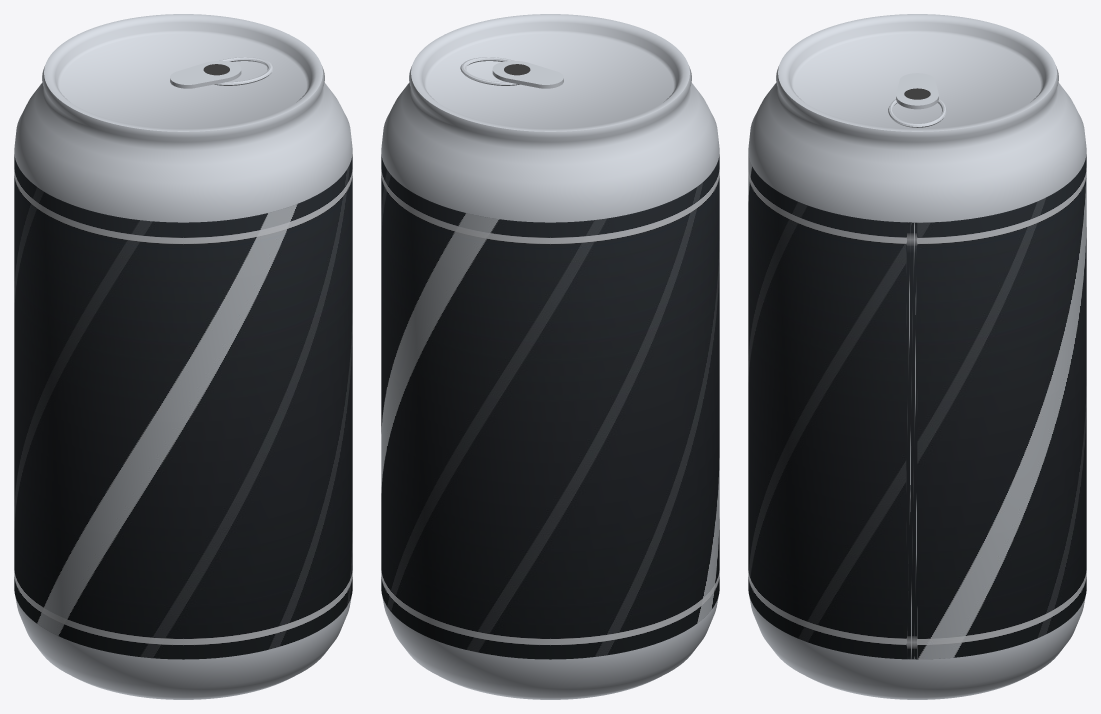
File: can.glb
3 views of the same model, side by side, from view 1: azimuth 30°, elevation 25°; view 2: azimuth 150°, elevation 25°; view 3: azimuth 270°, elevation 25° (orthographic).
Parts seen in each view (by area): view 1: can, tab; view 2: can, tab; view 3: can, tab.
Boxes of the visible parts, x1,y1,x2,y2 form: can: (14,14,352,699); tab: (170,61,241,88); can: (381,14,719,699); tab: (492,61,563,88); can: (748,14,1086,699); tab: (896,73,938,109).
Bounding box in the file's own units: 0.66 × 1.23 × 0.66.
3 materials, 1 textured.
